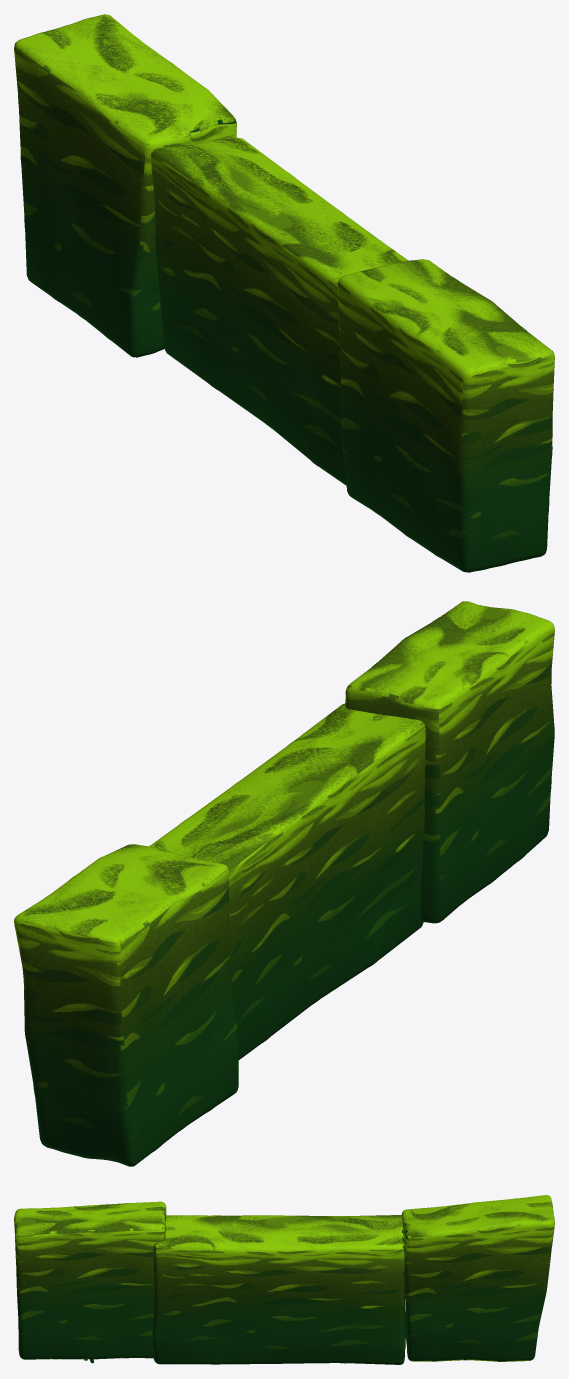
File: hedge-1.fbx
3 renders of one model, top to bottom at view 1: azimuth 30°, elevation 25°; view 2: azimuth 150°, elevation 25°; view 3: azimuth 270°, elevation 25°, orthographic. The views are drawn at different scales.
Parts seen in each view (by area): view 1: Cube; view 2: Cube; view 3: Cube.
Part boxes in pixels (x1,y1,x2,y2): Cube: [14, 14, 554, 572]; Cube: [14, 601, 554, 1166]; Cube: [14, 1195, 554, 1364].
Bounding box in the file's own units: 243 × 508 × 1653.
1 material, 1 textured.
